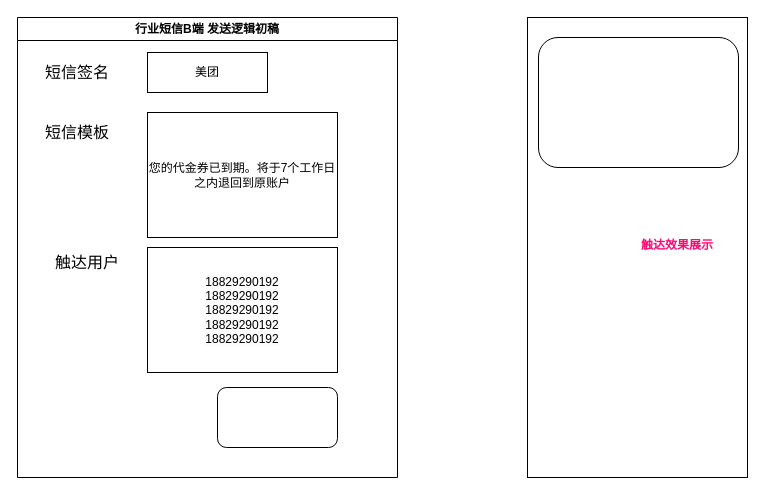
Image size: 765x495. Some labels were removed from this diagram. Each missing label, with the centre of its shape:
【美团】： 您的代金券已到期。将于7个工作日之内退回到原账户: the point at 638,102
发送: the point at 277,417
